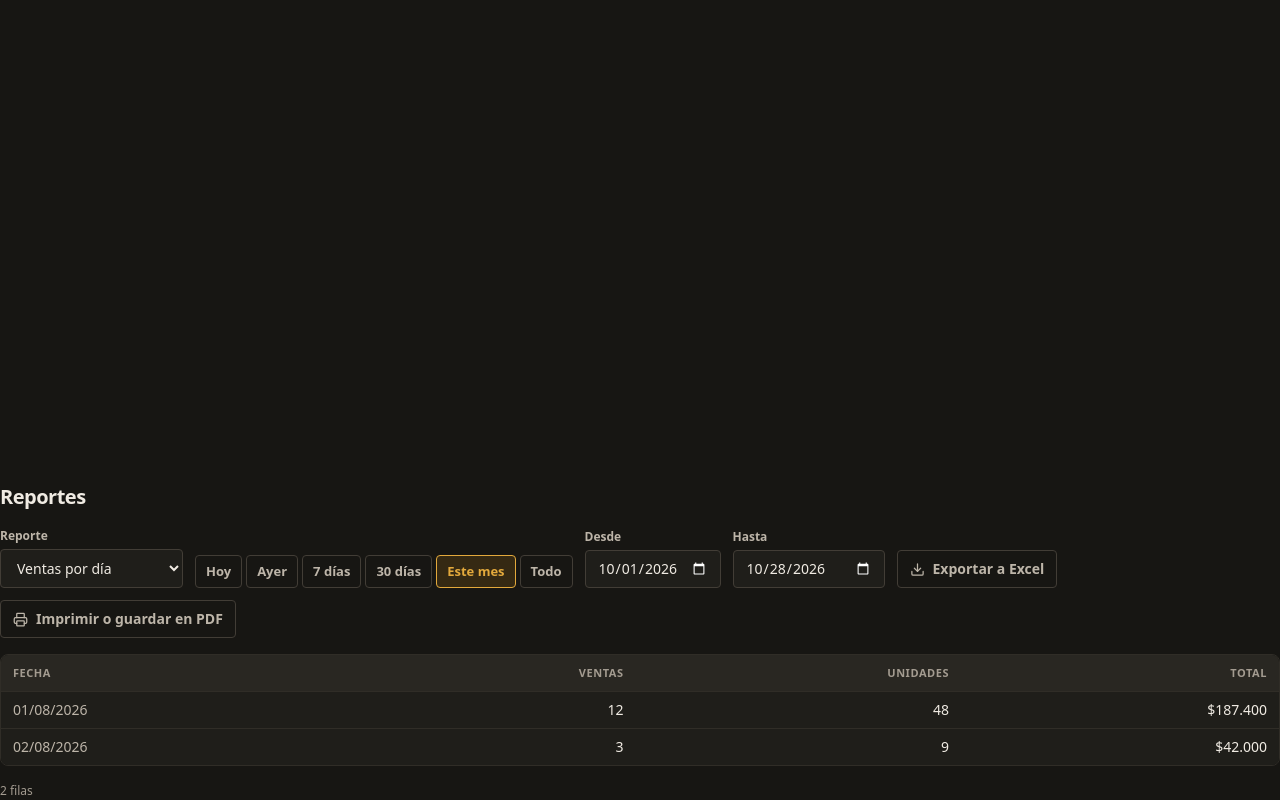
Test case: cuando el núcleo falla › borra la tabla anterior, que si no se queda engañando
(page scrolled)
Expected: the heading "Reportes" is shown, [0, 483, 86, 510]
Expected: the column heading "Fecha" is shown, [1, 655, 375, 691]
Select "Ventas por producto" in the dropdown labelled "Reporte": (92, 568) [0, 549, 183, 588]
(page scrolled)
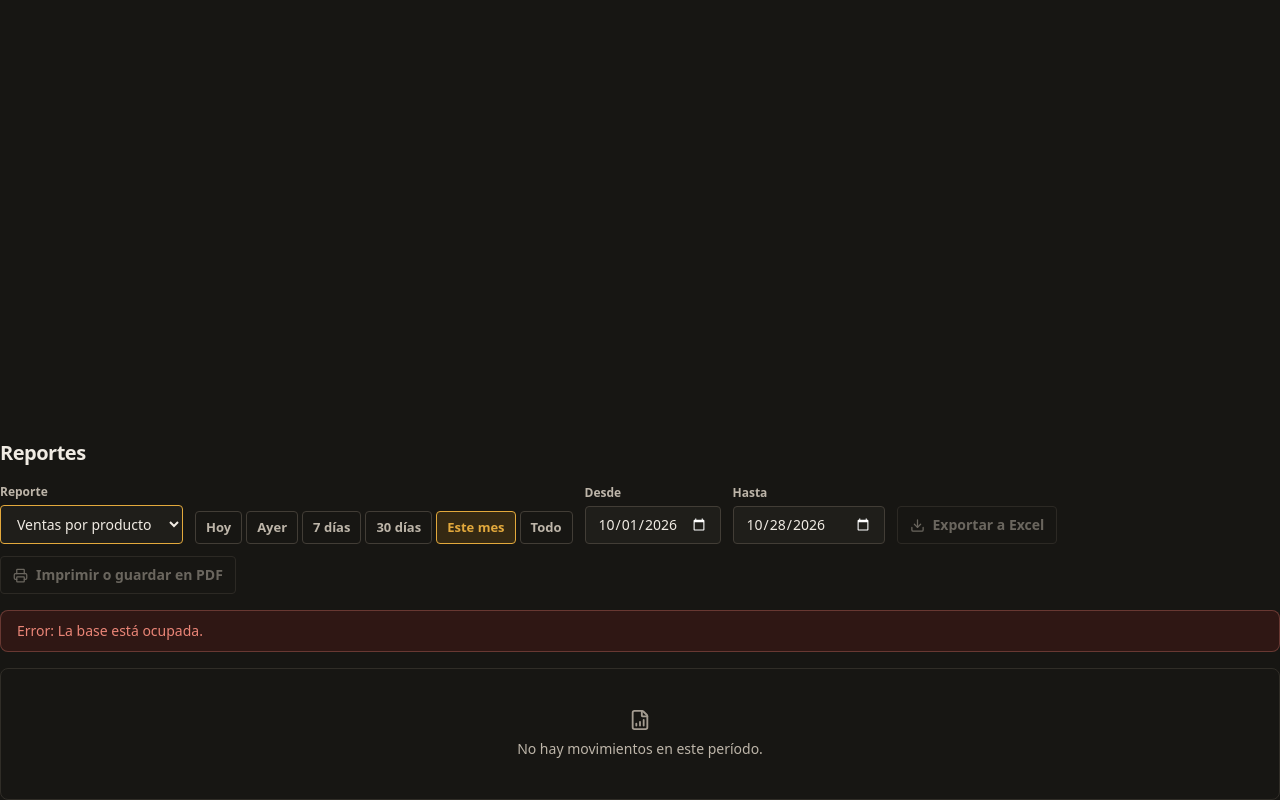
Expected: the message "Error: La base está ocupada." is shown, [0, 610, 1279, 652]
Expected: the text "01/08/2026" is gone
Expected: the text "No hay movimientos en este período." is shown, [517, 739, 763, 759]
